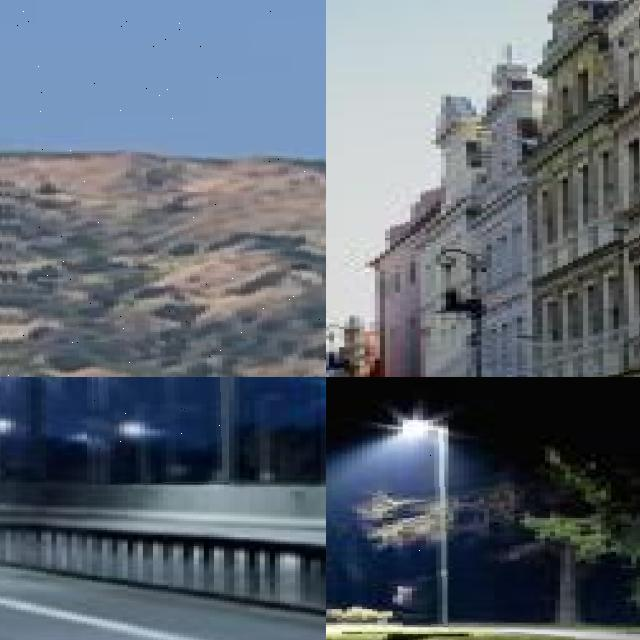street light: (0, 0, 326, 377), (87, 377, 229, 484), (403, 420, 448, 627), (249, 377, 326, 486), (435, 249, 494, 377), (168, 377, 229, 482), (326, 326, 362, 377)
